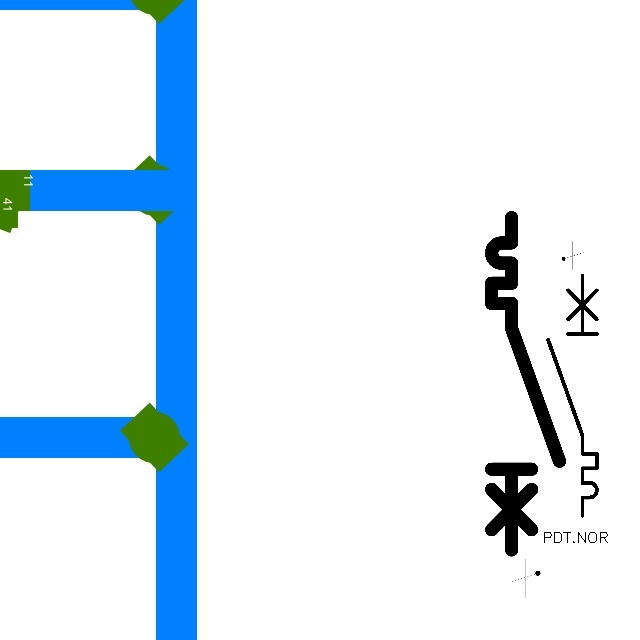interruptor_termomagnetico: (483, 209, 568, 558), (542, 269, 603, 521)
